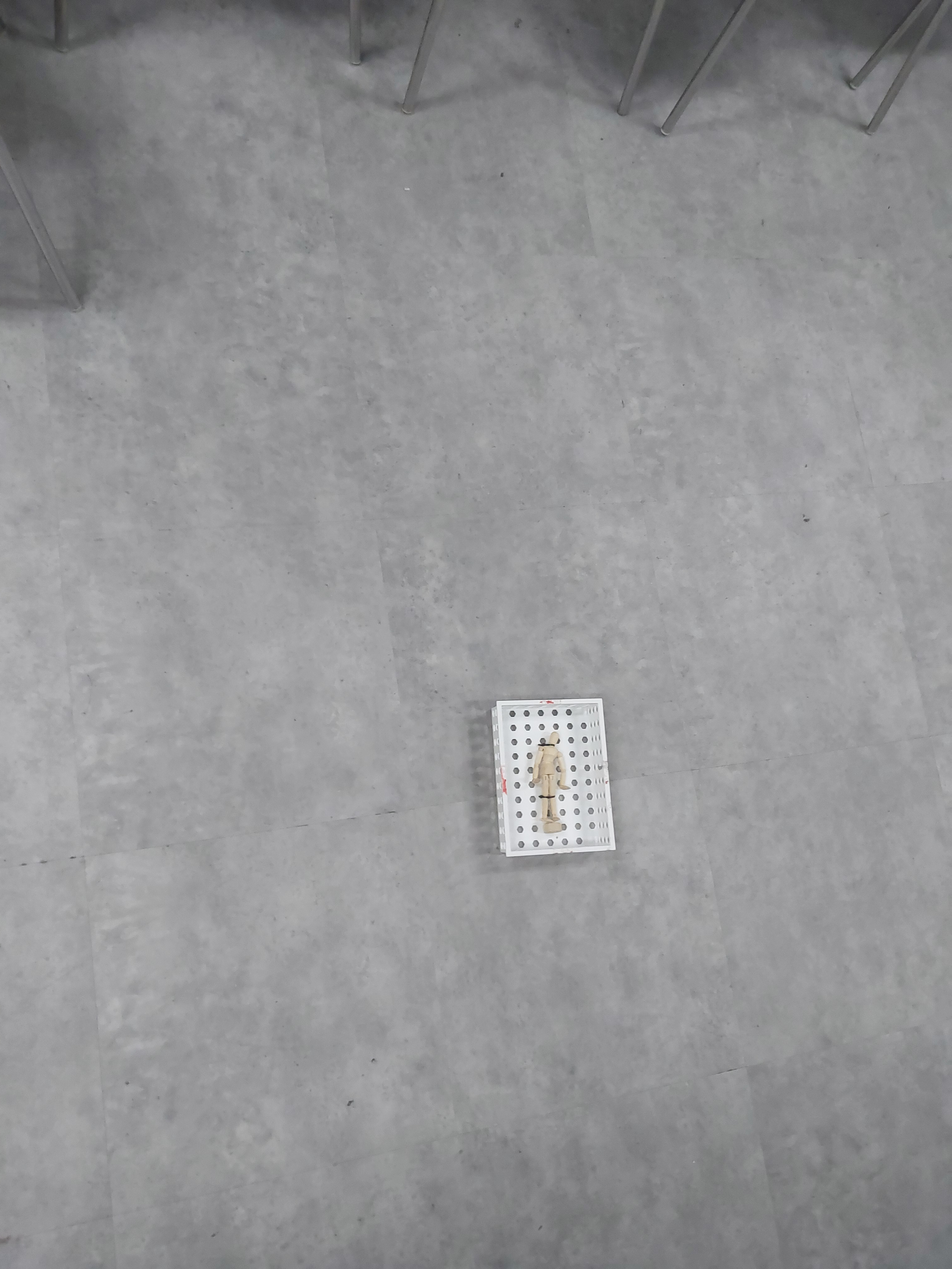basket: (486, 696, 620, 859)
mannequin: (530, 730, 573, 835)
